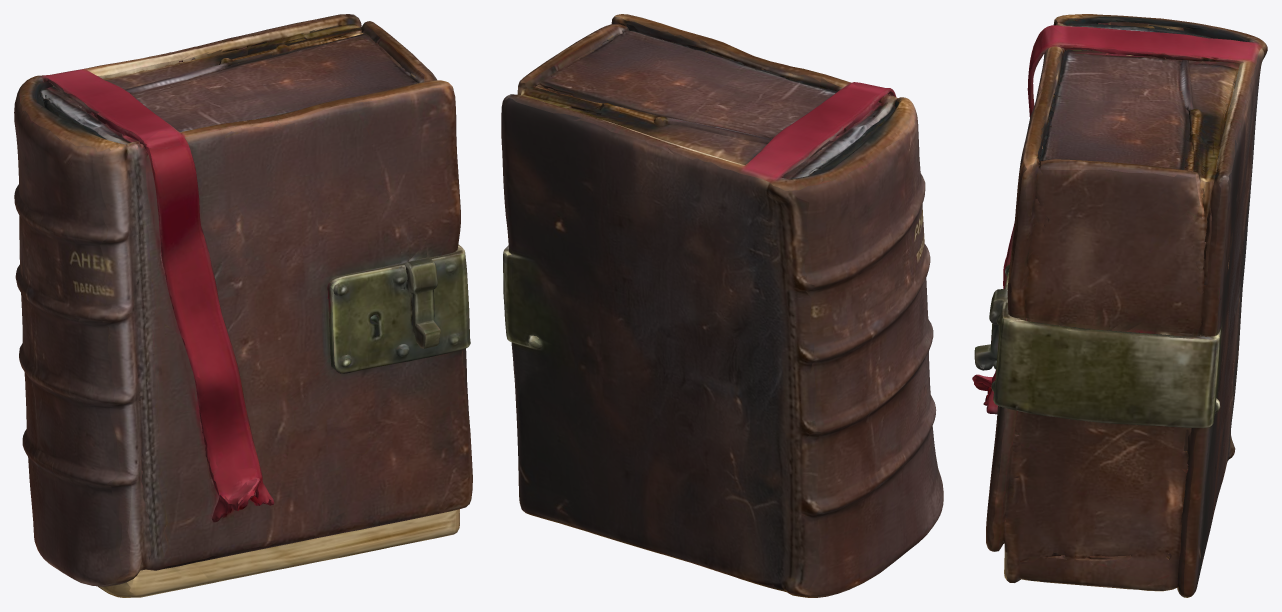
The model's file is relic_ledger.glb.
The picture shows the model from 3 angles, left to right: view 1: azimuth 30°, elevation 25°; view 2: azimuth 150°, elevation 25°; view 3: azimuth 270°, elevation 25°; orthographic projection. The views are drawn at different scales.
Visible parts, largest first — view 1: geometry_0; view 2: geometry_0; view 3: geometry_0.
Part boxes in pixels (bbox=[...]): geometry_0: bbox=[14, 14, 472, 597]; geometry_0: bbox=[501, 14, 943, 597]; geometry_0: bbox=[972, 14, 1267, 597].
Bounding box in the file's own units: 0.21 × 0.2477 × 0.1527.
Materials: 1 (1 with a texture image).
